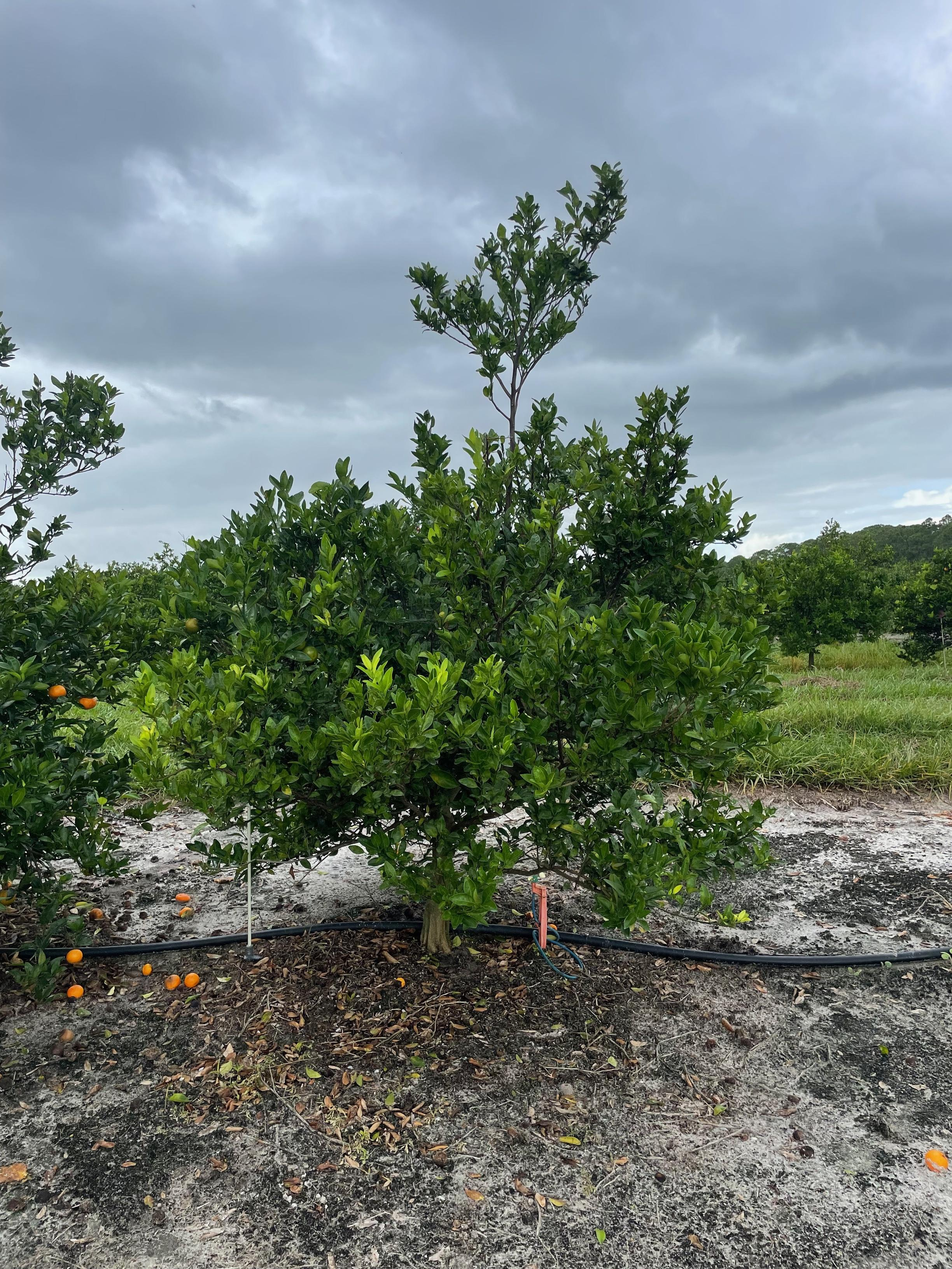fruit_on_ground: (77, 693, 99, 711), (47, 683, 68, 701), (183, 616, 202, 635), (301, 644, 319, 664)
fruit_on_tree: (922, 1147, 950, 1176), (64, 946, 86, 965), (64, 982, 86, 1001), (182, 970, 201, 989), (0, 887, 17, 907), (163, 972, 181, 990), (58, 1025, 75, 1043), (87, 905, 106, 921), (177, 905, 195, 919), (174, 890, 192, 904), (392, 974, 407, 989), (140, 961, 154, 977)
